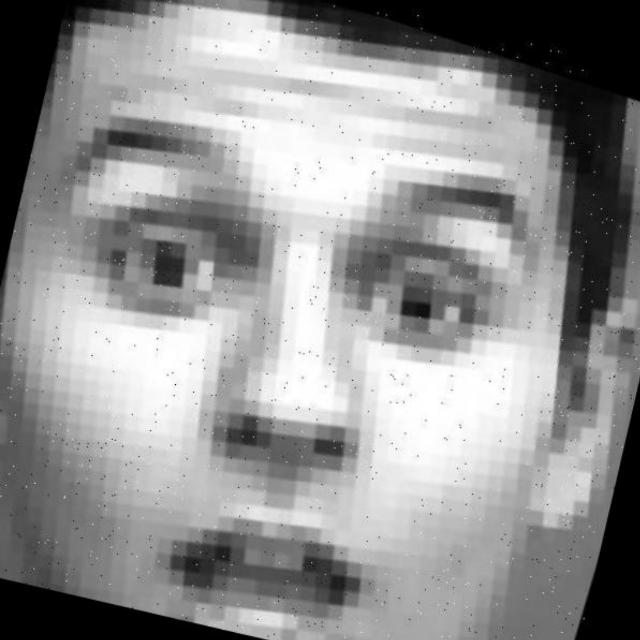Surprised: (30, 37, 640, 640)
